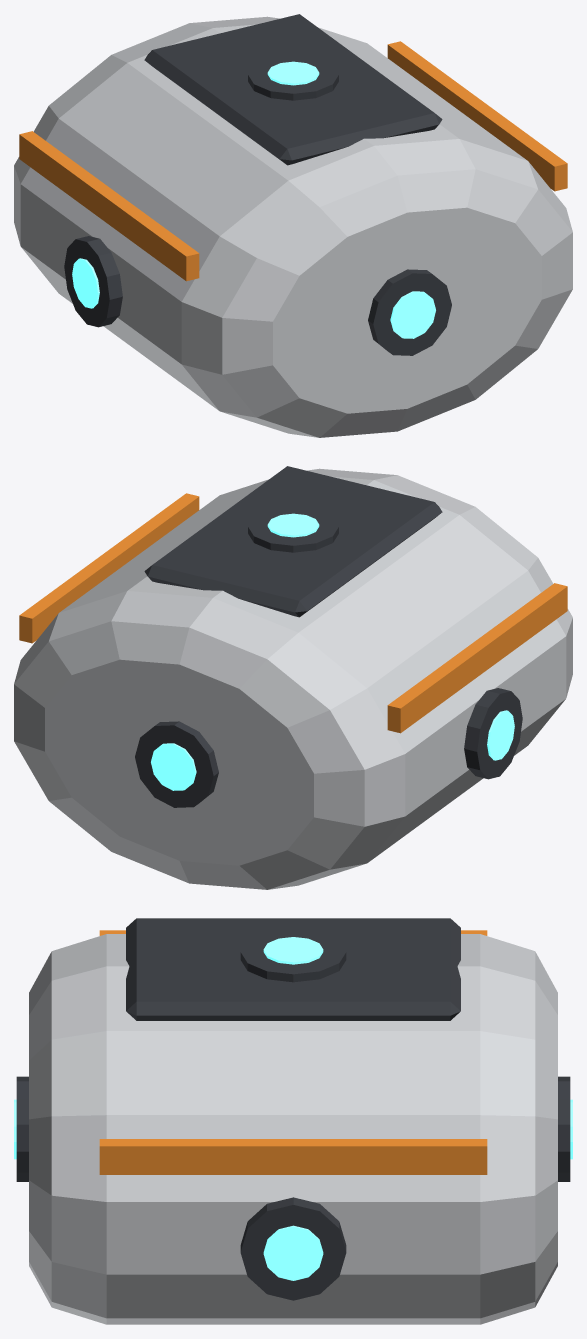
The model's file is core.glb.
3 views of the same model, one above another, from view 1: azimuth 30°, elevation 25°; view 2: azimuth 150°, elevation 25°; view 3: azimuth 270°, elevation 25° (orthographic). The views are drawn at different scales.
Visible parts, largest first — view 1: core; view 2: core; view 3: core.
Boxes of the visible parts, box(x1,y1,x2,y2) form: core: box(14, 14, 572, 437); core: box(14, 466, 572, 889); core: box(14, 918, 572, 1324).
Bounding box in the file's own units: 1.59 × 1.07 × 1.59.
